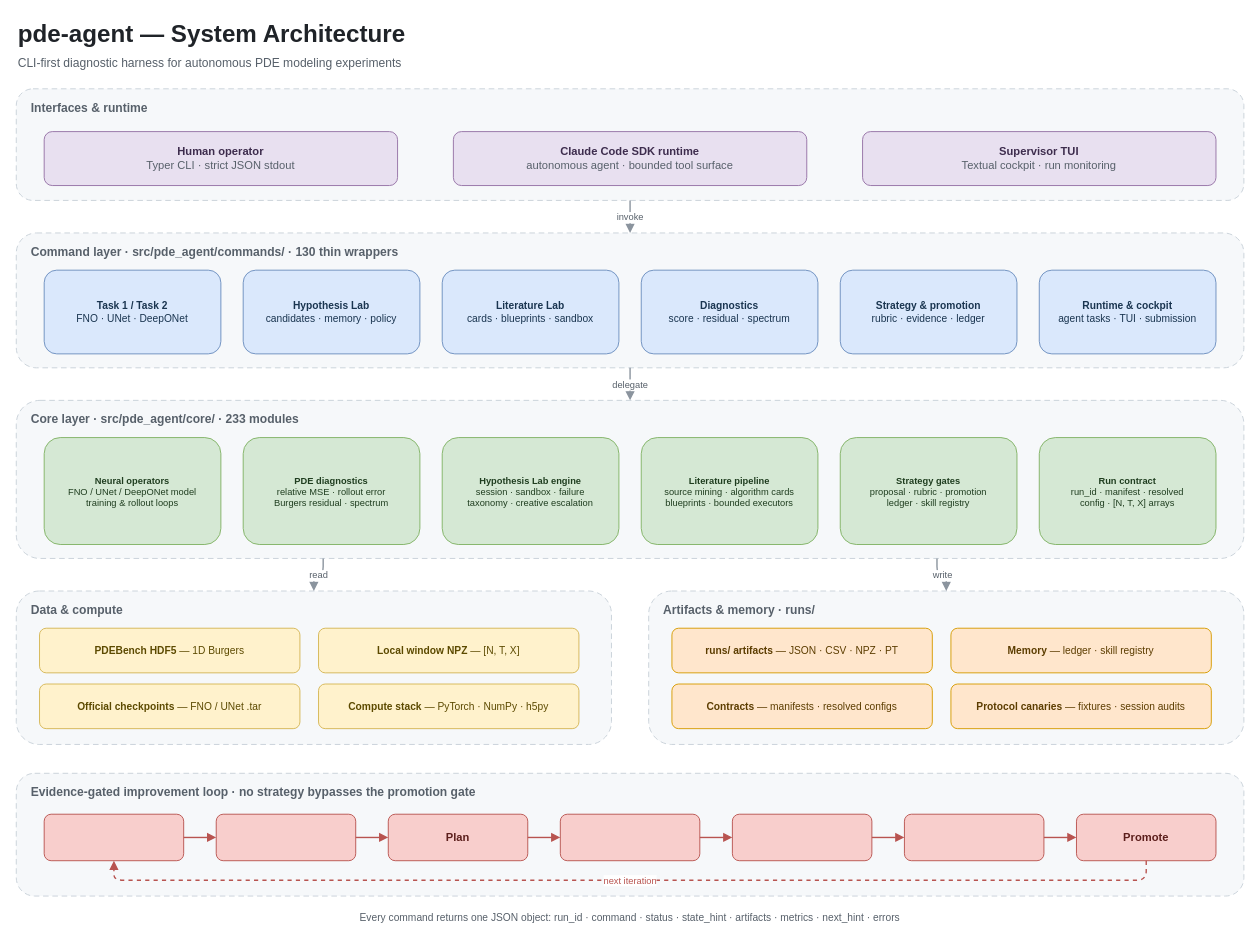
The diagram is 1260 pixels wide and 943 high, and some of its shapes have lost their labels. Each missing label, with the centre of its shape:
"Audit" belongs at point (629, 837).
"Diagnose" belongs at point (113, 837).
"Evaluate" belongs at point (973, 837).
"Execute" belongs at point (801, 837).
"Hypothesize" belongs at point (285, 837).
